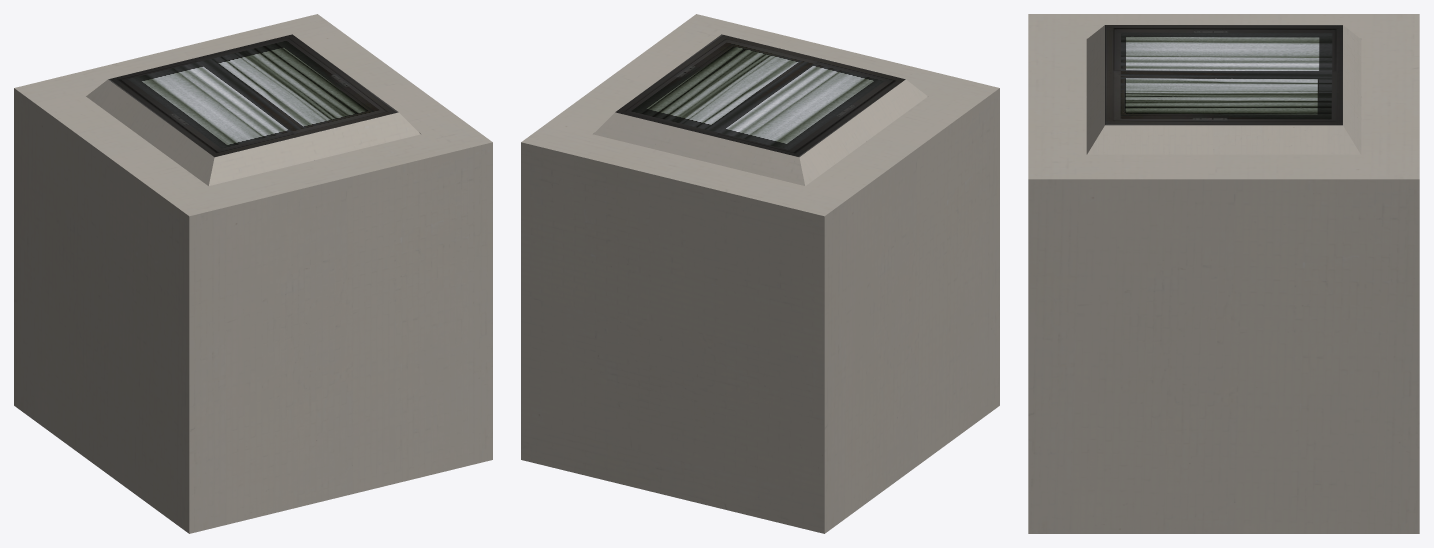
Rendered from WhiteBrick_SingleBox.fbx.
3 renders of one model, left to right at view 1: azimuth 30°, elevation 25°; view 2: azimuth 150°, elevation 25°; view 3: azimuth 270°, elevation 25°, orthographic. The views are drawn at different scales.
Parts seen in each view (by area): view 1: Cube; view 2: Cube; view 3: Cube.
Boxes of the visible parts, x1=… form: Cube: x1=14, y1=14, x2=492, y2=533; Cube: x1=521, y1=14, x2=999, y2=533; Cube: x1=1028, y1=14, x2=1419, y2=533.
Bounding box in the file's own units: 200 × 212 × 200.
